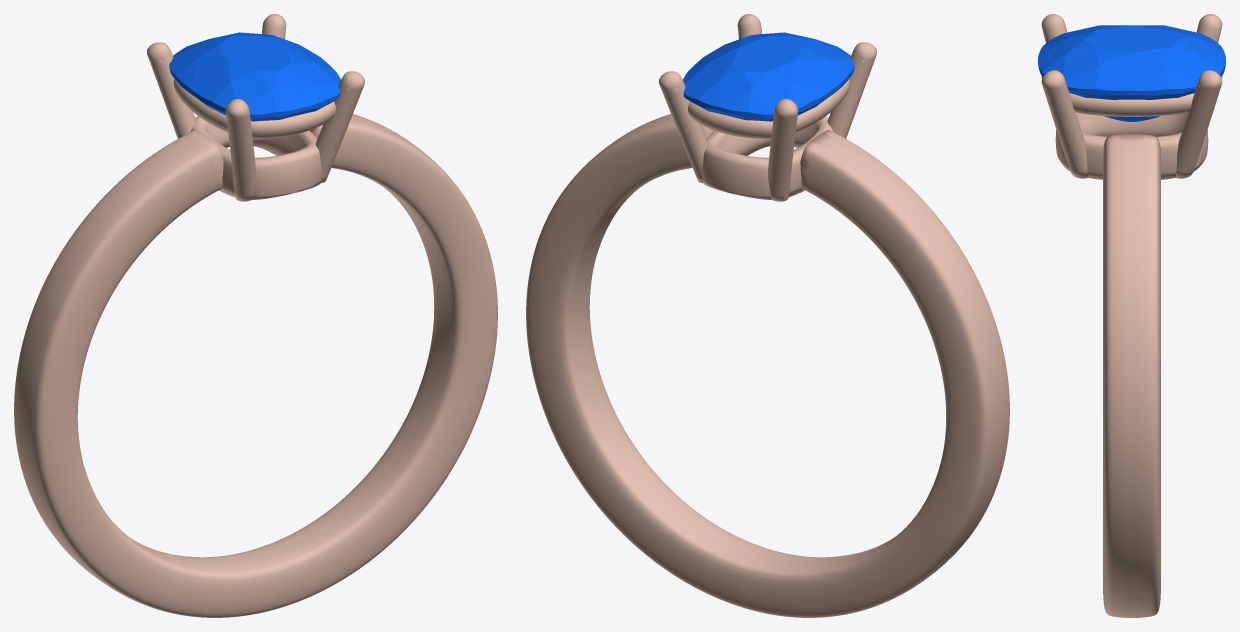
File: bluesapphire-cushion-rosegold-4prong-straightband-nosidestones.glb
3 views of the same model, side by side, from view 1: azimuth 30°, elevation 25°; view 2: azimuth 150°, elevation 25°; view 3: azimuth 270°, elevation 25° (orthographic).
Parts seen in each view (by area): view 1: metal.003, stone; view 2: metal.003, stone; view 3: metal.003, stone.
Boxes of the visible parts, x1=… form: metal.003: x1=14, y1=14, x2=497, y2=617; stone: x1=169, y1=32, x2=340, y2=121; metal.003: x1=526, y1=14, x2=1009, y2=617; stone: x1=683, y1=32, x2=854, y2=121; metal.003: x1=1041, y1=14, x2=1222, y2=617; stone: x1=1038, y1=25, x2=1225, y2=121.
Bounding box in the file's own units: 20.51 × 23.24 × 7.15.
